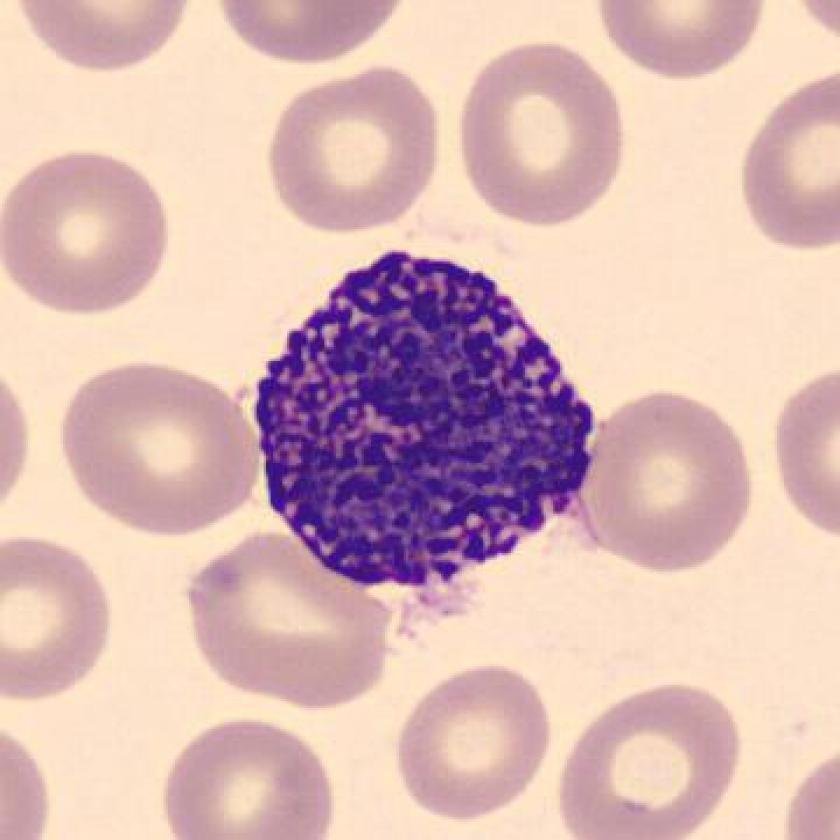basophil: (251, 242, 605, 591)
